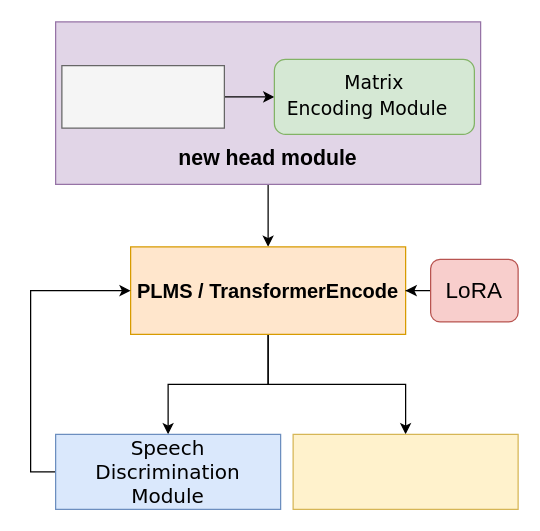
The diagram is 540 pixels wide and 531 high, and some of its shapes have lost their labels. Each missing label, with the centre of its shape:
Chinese traditional poetry: (x=142, y=96)
Generated traditional Chinese poetry: (x=405, y=471)
